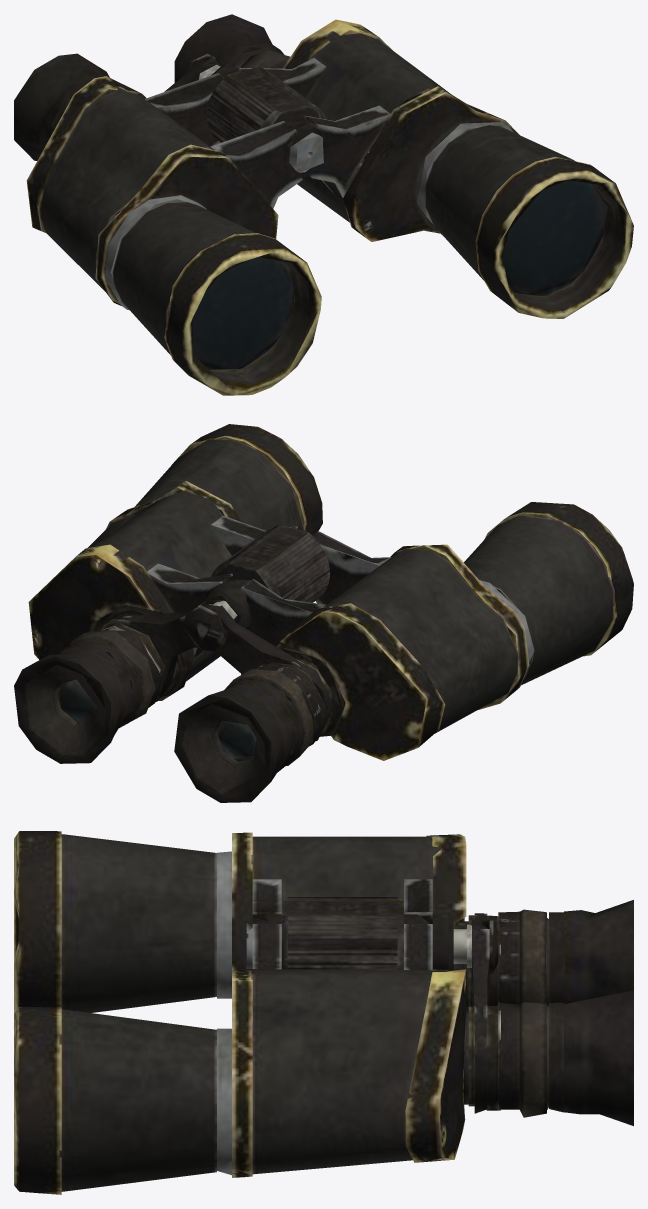
File: vintage_binocular.glb
3 renders of one model, top to bottom at view 1: azimuth 30°, elevation 25°; view 2: azimuth 150°, elevation 25°; view 3: azimuth 270°, elevation 25°, orthographic. The views are drawn at different scales.
Visible parts, largest first — view 1: vintage_binocular; view 2: vintage_binocular; view 3: vintage_binocular.
Boxes of the visible parts, x1,y1,x2,y2 form: vintage_binocular: (14,14,633,395); vintage_binocular: (14,424,633,802); vintage_binocular: (14,831,633,1194).
Bounding box in the file's own units: 0.1939 × 0.0684 × 0.199.
Materials: 1 (1 with a texture image).
